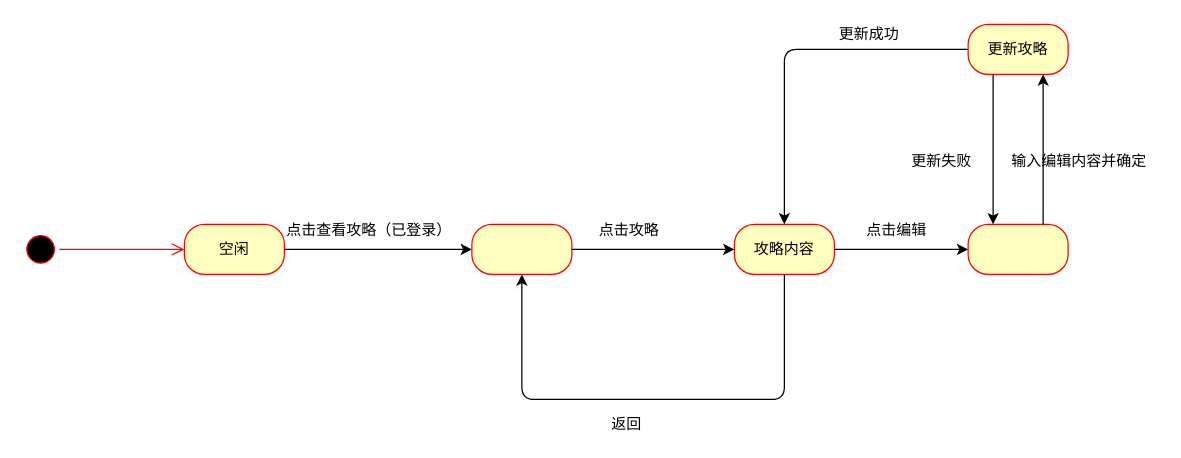
Image size: 1181x458. Some labels were removed from this diagram. The shapes that lost their labels are listed below. From the top down, each one's centre as x and y in pixels, then its label:
point 521,248: 攻略列表
point 1017,248: 编辑界面
